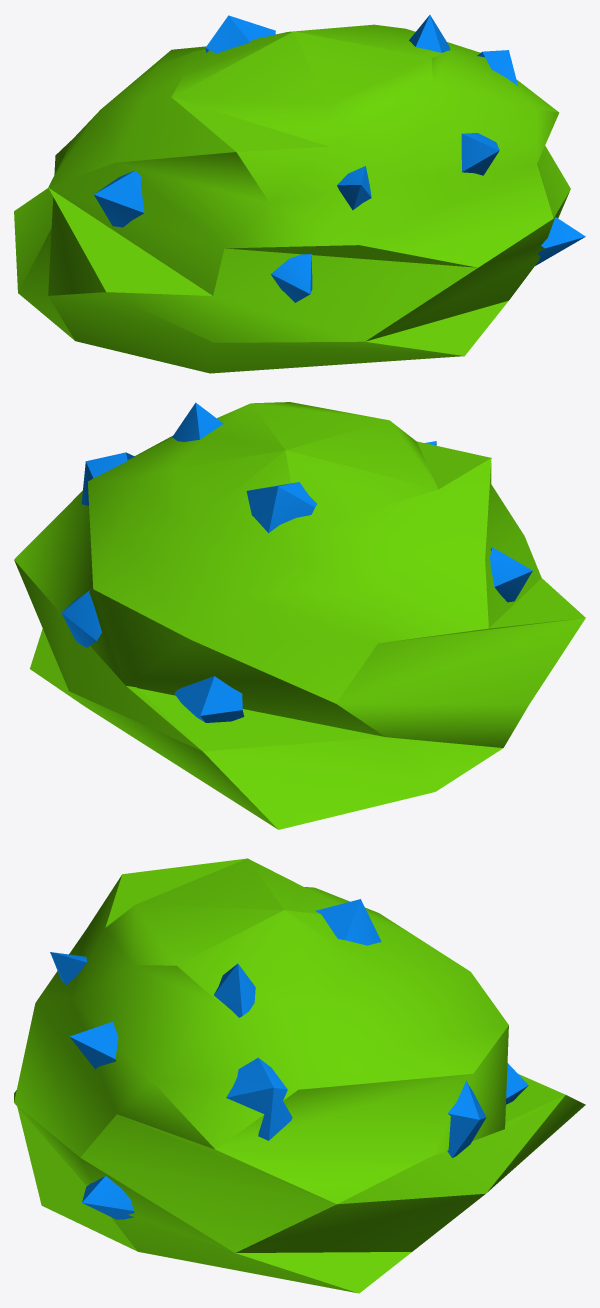
Rendered from blueberry_bush.glb.
3 renders of one model, top to bottom at view 1: azimuth 30°, elevation 25°; view 2: azimuth 150°, elevation 25°; view 3: azimuth 270°, elevation 25°, orthographic. The views are drawn at different scales.
Visible parts, largest first — view 1: default4_Material_0; view 2: default4_Material_0; view 3: default4_Material_0.
Part boxes in pixels (x1,y1,x2,y2): default4_Material_0: (14,15,585,373); default4_Material_0: (14,402,585,829); default4_Material_0: (14,858,585,1293).
Bounding box in the file's own units: 2.11 × 1.04 × 1.98.
Materials: 1 (1 with a texture image).
